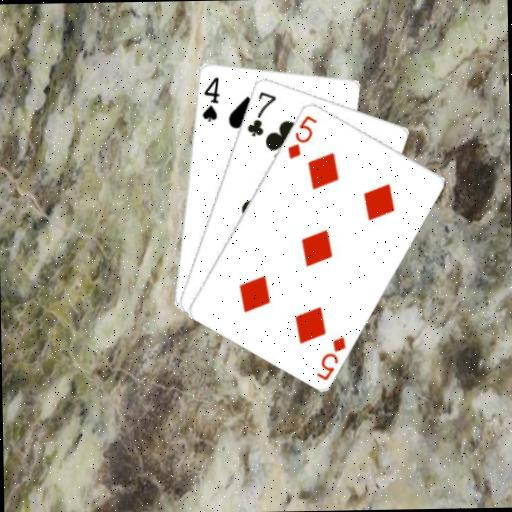4S: (198, 74, 222, 123)
5D: (284, 111, 320, 160), (313, 333, 349, 382)
7C: (243, 88, 278, 139)
